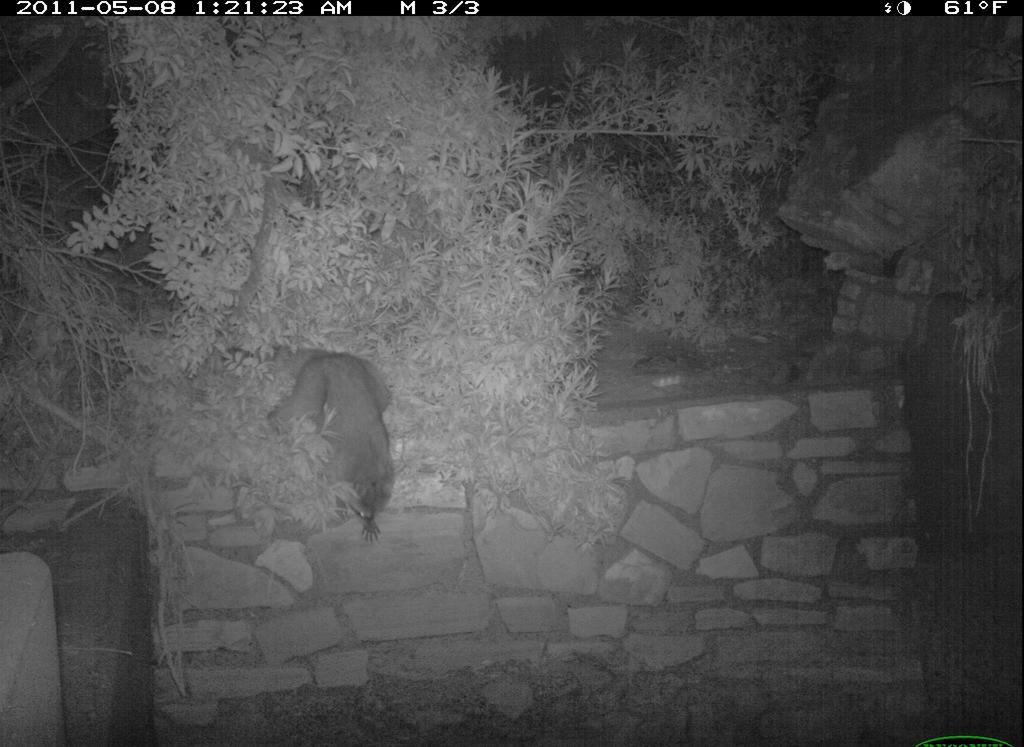raccoon: (260, 337, 400, 547)
